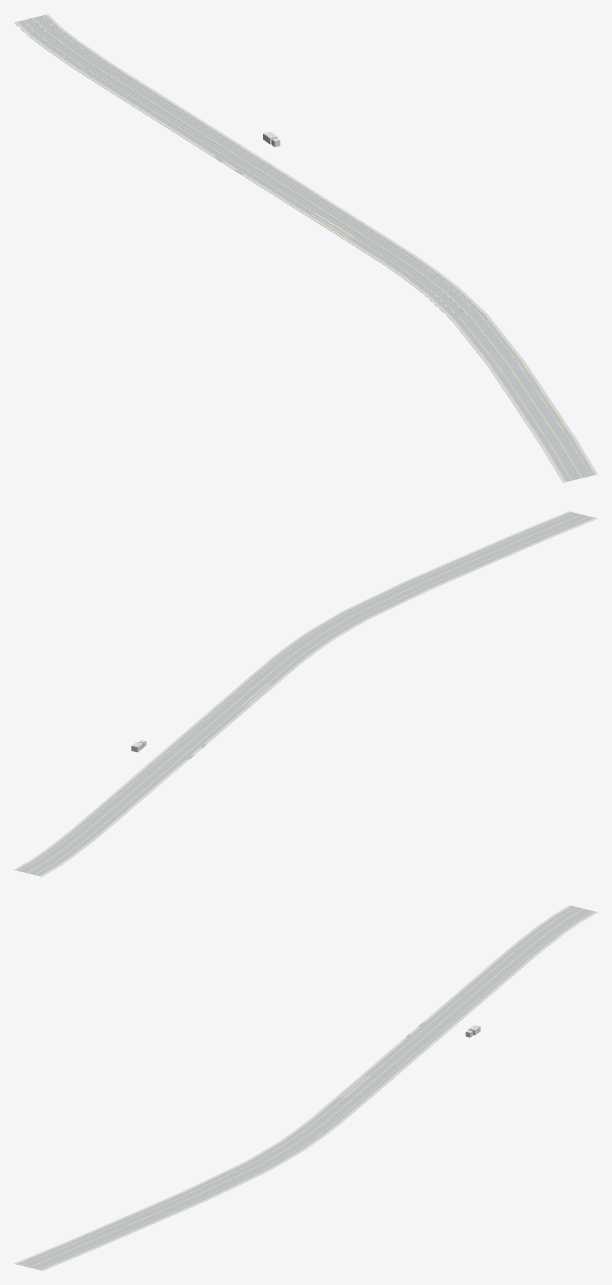
Rendered from street.glb.
3 renders of one model, top to bottom at view 1: azimuth 30°, elevation 25°; view 2: azimuth 150°, elevation 25°; view 3: azimuth 330°, elevation 25°, orthographic. The views are drawn at different scales.
Visible parts, largest first — view 1: street_carriageway, street_sidewalks, street_separators, street_curbs, street_median; view 2: street_carriageway, street_separators, street_sidewalks, street_curbs, street_median; view 3: street_carriageway, street_separators, street_sidewalks, street_curbs, street_median.
Part boxes in pixels (x1,y1,x2,y2): street_carriageway: [18, 15, 593, 481]; street_sidewalks: [14, 14, 597, 482]; street_separators: [17, 15, 594, 481]; street_curbs: [18, 15, 594, 481]; street_median: [31, 18, 582, 478]; street_carriageway: [17, 512, 593, 875]; street_separators: [16, 512, 595, 875]; street_sidewalks: [14, 511, 597, 876]; street_curbs: [16, 512, 592, 875]; street_median: [26, 514, 582, 873]; street_carriageway: [17, 906, 594, 1269]; street_separators: [16, 906, 595, 1269]; street_sidewalks: [14, 905, 597, 1270]; street_curbs: [17, 906, 593, 1269]; street_median: [29, 908, 584, 1267].
Bounding box in the file's own units: 192 × 8.3 × 1500.
